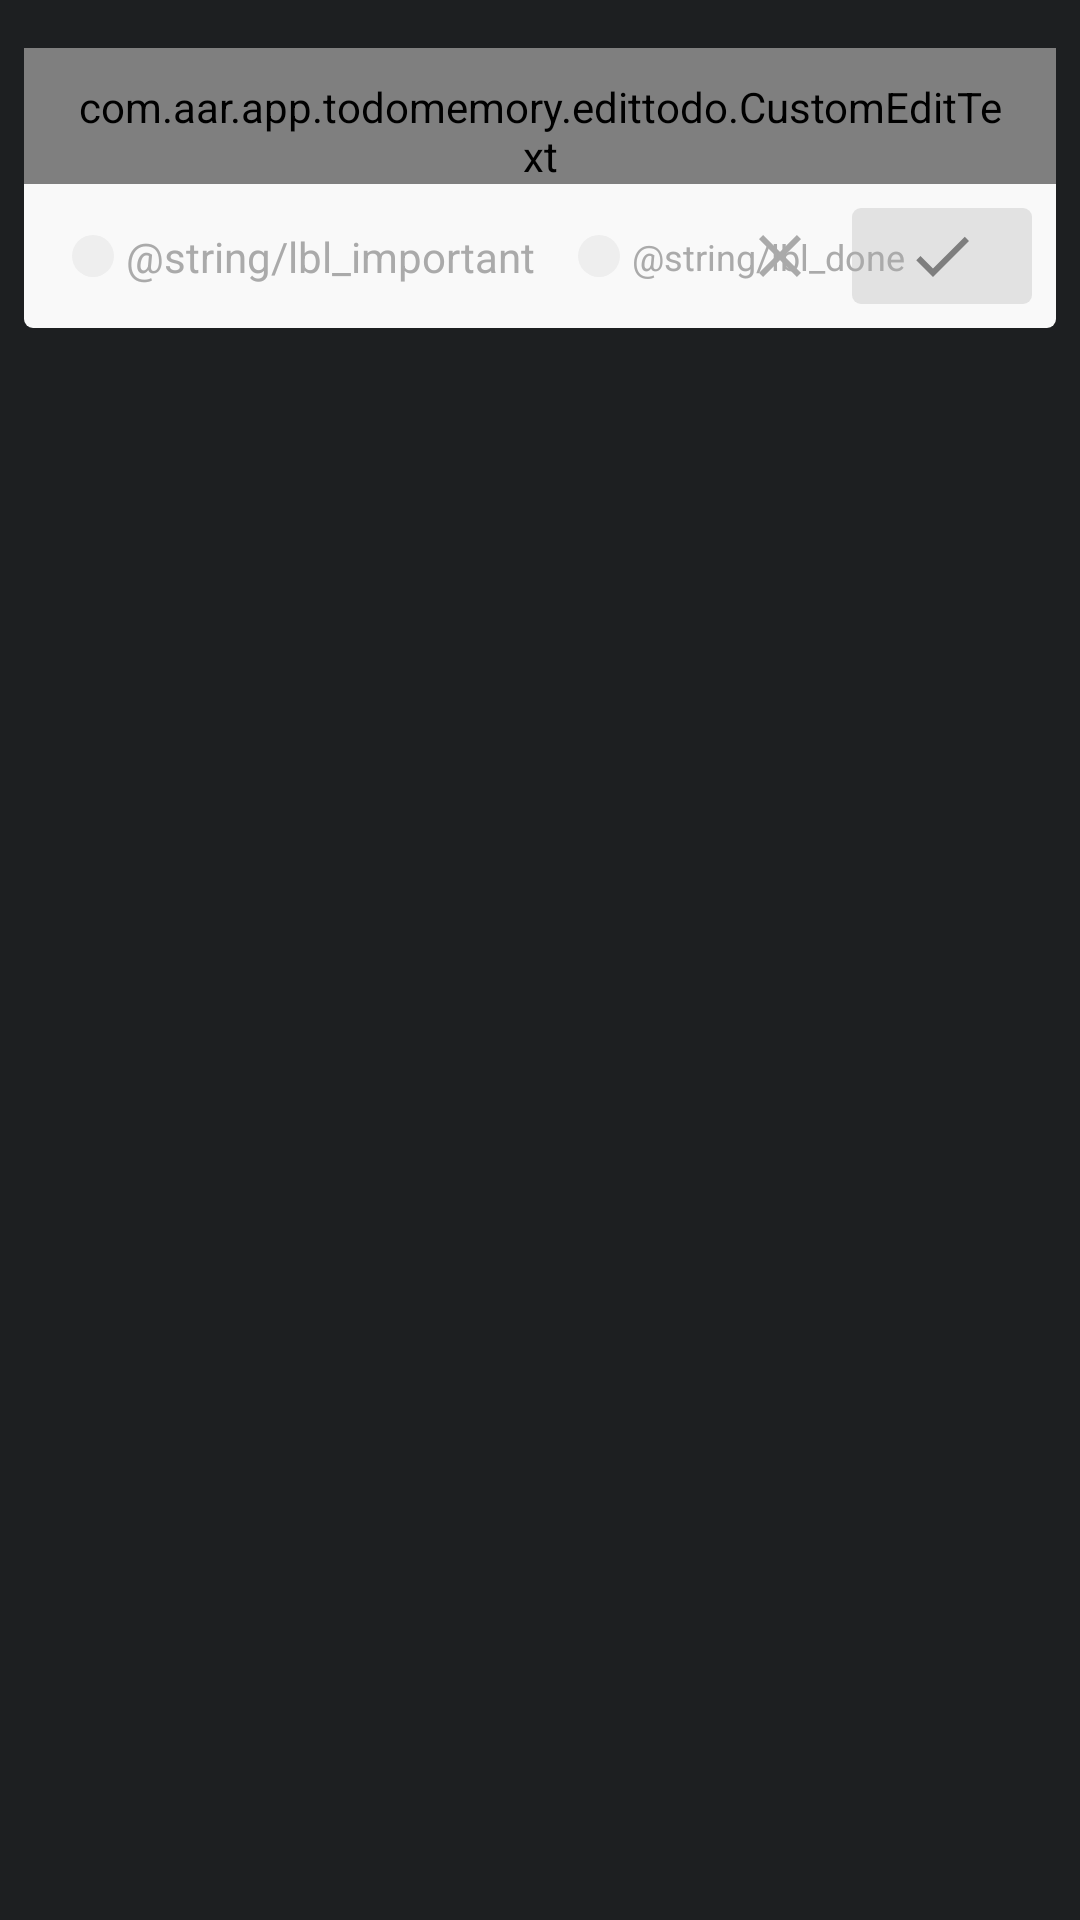

Icons on this 1080 x 1920 Android screen, each with the point to tap as point (x, y):
check: point (942, 256)
